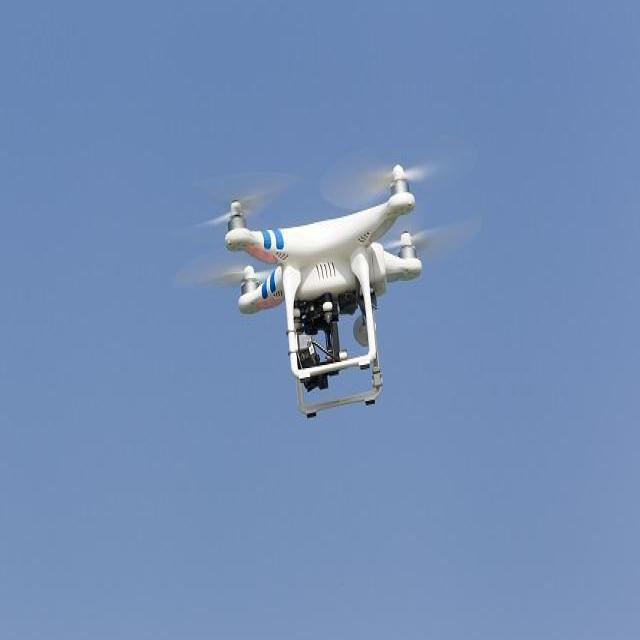drone: (222, 160, 424, 422)
